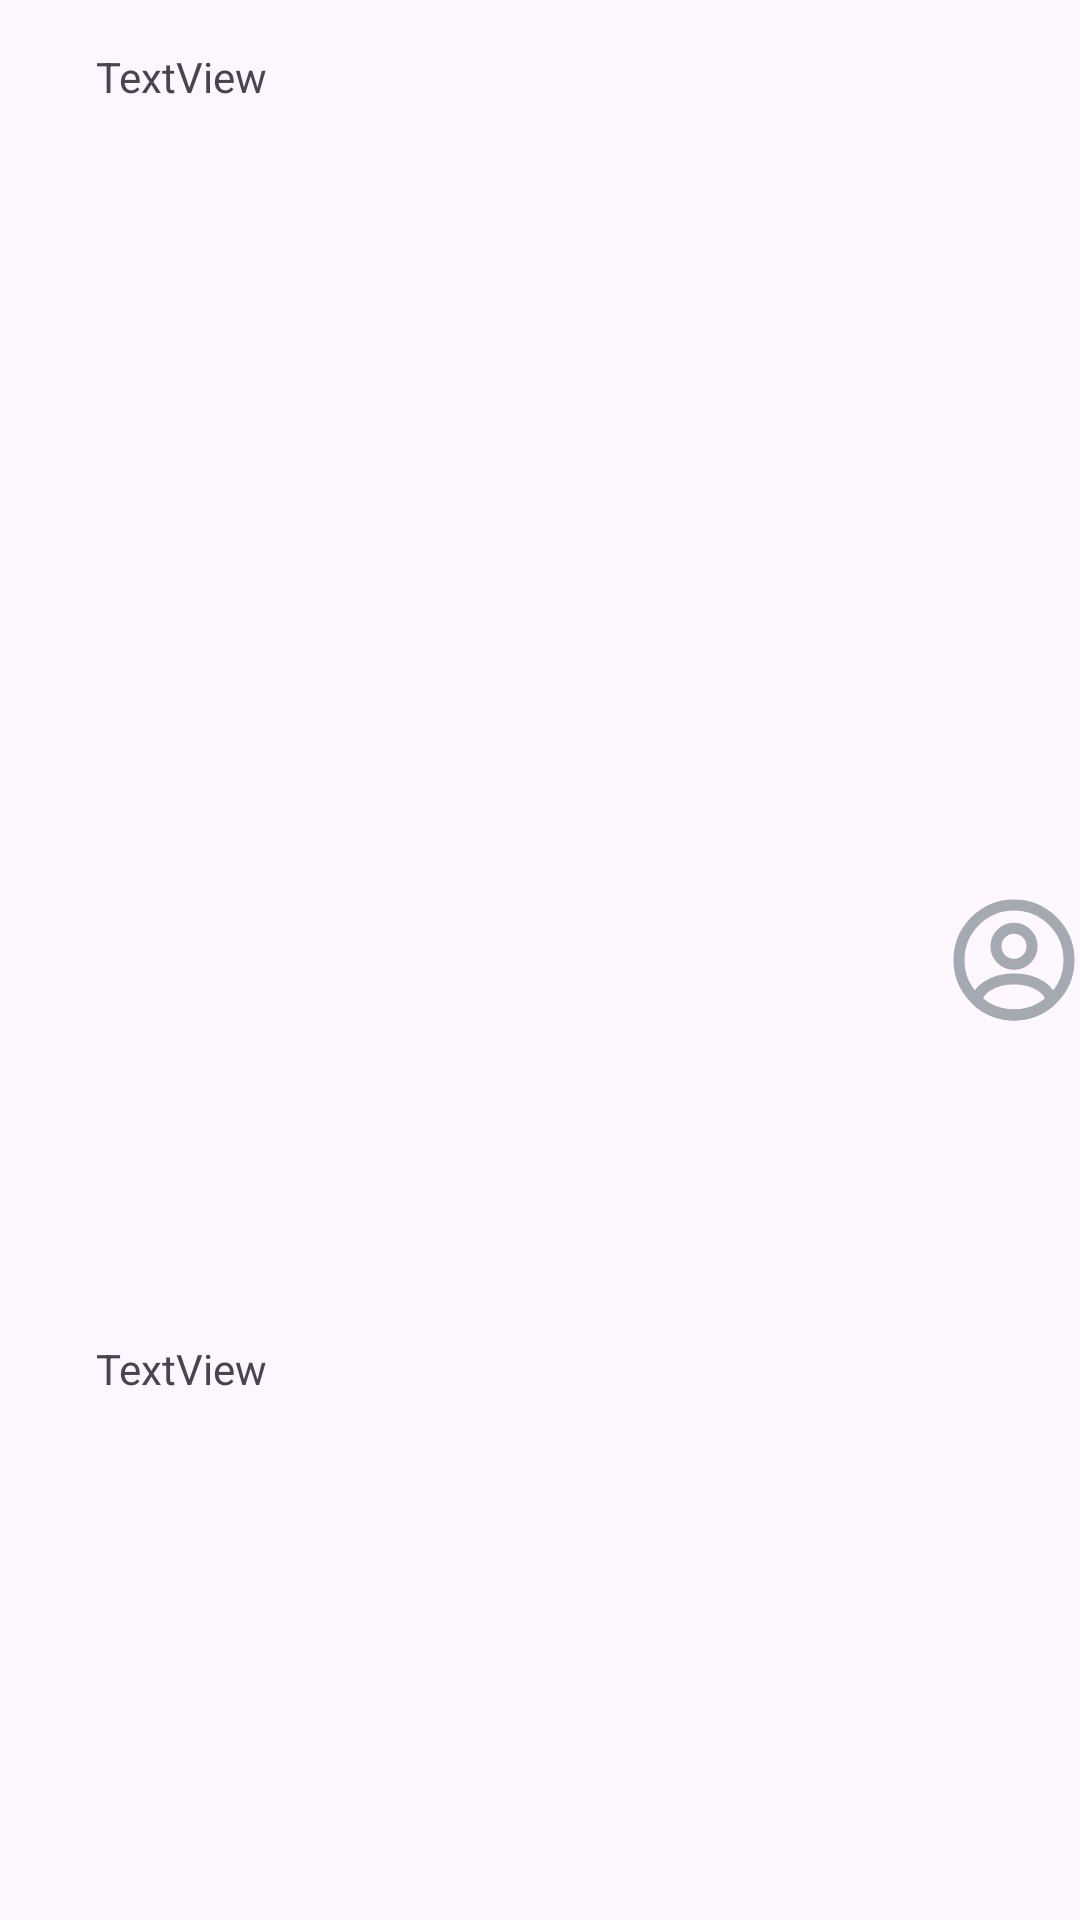

Point at icon controls on the screen. Image size 1080×1920, points as [x,y].
account: [1014,960]
